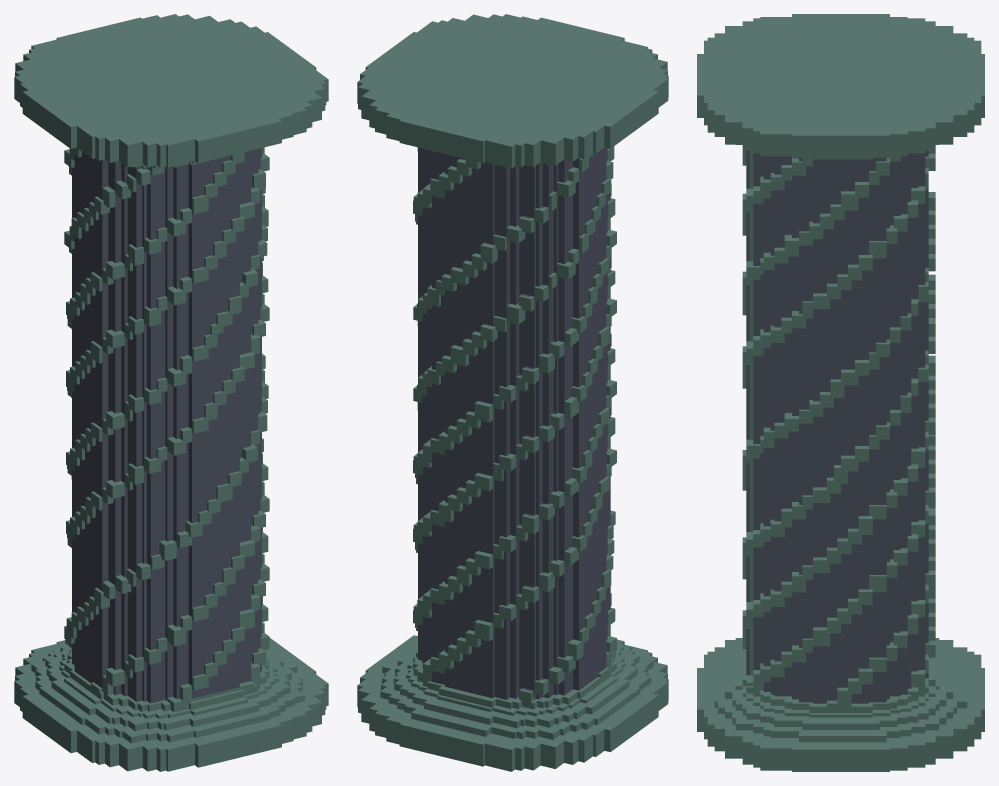
The model's file is columnaAzul-0-ColumnaRoja-0-columna.obj.
3 views of the same model, side by side, from view 1: azimuth 30°, elevation 25°; view 2: azimuth 150°, elevation 25°; view 3: azimuth 270°, elevation 25° (orthographic).
Parts seen in each view (by area): view 1: ColumnaRoja-0-columna; view 2: ColumnaRoja-0-columna; view 3: ColumnaRoja-0-columna.
Boxes of the visible parts, <box> form: ColumnaRoja-0-columna: <box>14,14,328,771</box>; ColumnaRoja-0-columna: <box>357,14,668,771</box>; ColumnaRoja-0-columna: <box>697,14,984,771</box>.
Size of the model in its own units: 8.2 by 20 by 8.2.
1 material, 1 textured.
